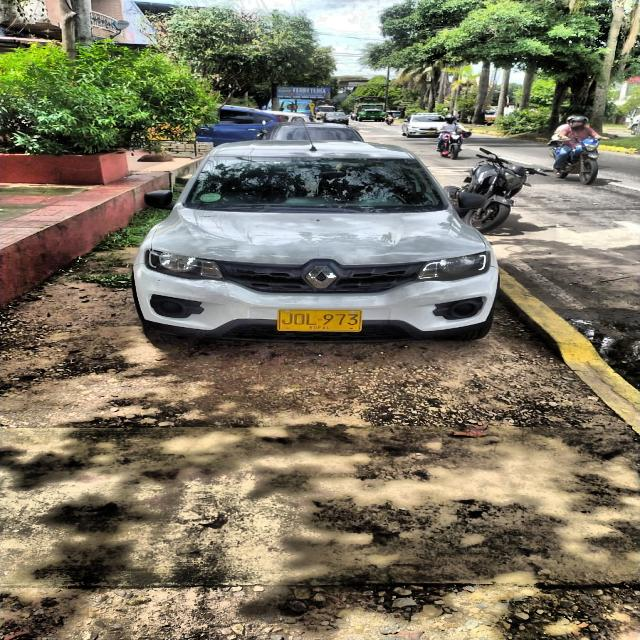plate: (278, 310, 362, 331)
